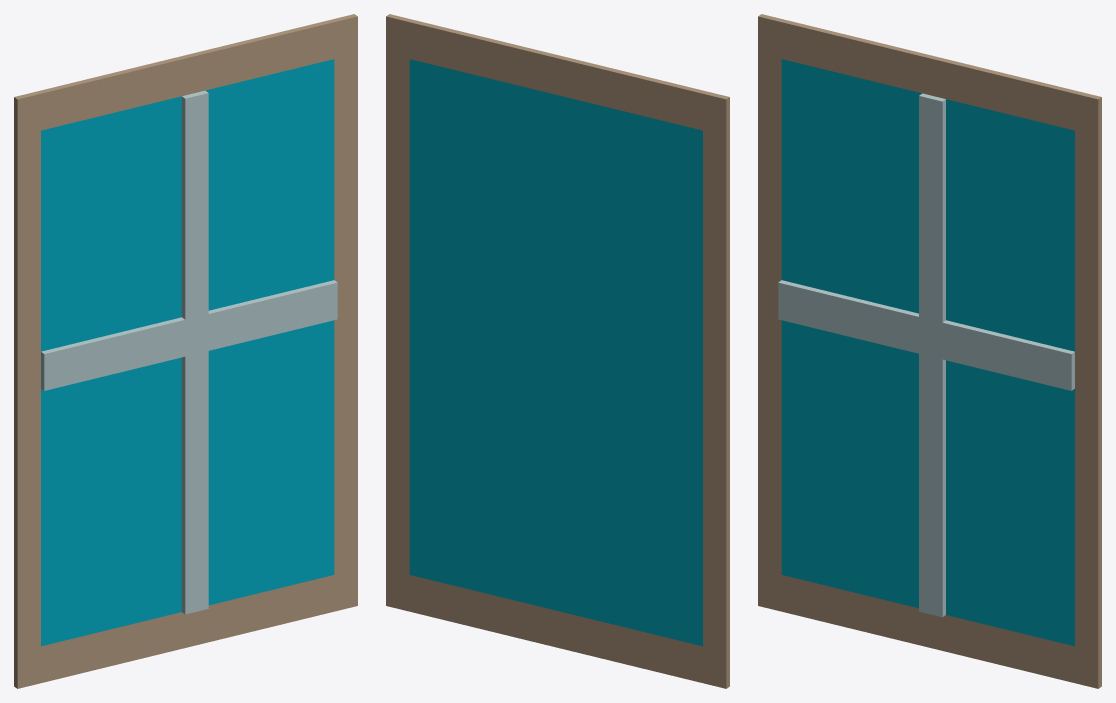
File: window.glb
The picture shows the model from 3 angles, left to right: view 1: azimuth 30°, elevation 25°; view 2: azimuth 150°, elevation 25°; view 3: azimuth 330°, elevation 25°; orthographic projection.
Visible parts, largest first — view 1: Mesh_Mesh_head_geo.001_lambert2SG.001; view 2: Mesh_Mesh_head_geo.001_lambert2SG.001; view 3: Mesh_Mesh_head_geo.001_lambert2SG.001.
Part boxes in pixels (x1,y1,x2,y2): Mesh_Mesh_head_geo.001_lambert2SG.001: (14, 14, 357, 688); Mesh_Mesh_head_geo.001_lambert2SG.001: (386, 14, 729, 688); Mesh_Mesh_head_geo.001_lambert2SG.001: (758, 14, 1101, 688).
Bounding box in the file's own units: 0.029 × 0.048 × 0.001.
